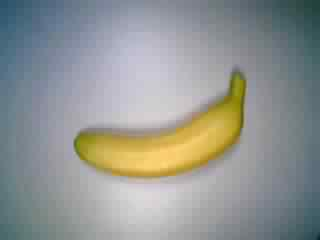banana: (73, 70, 255, 182)
